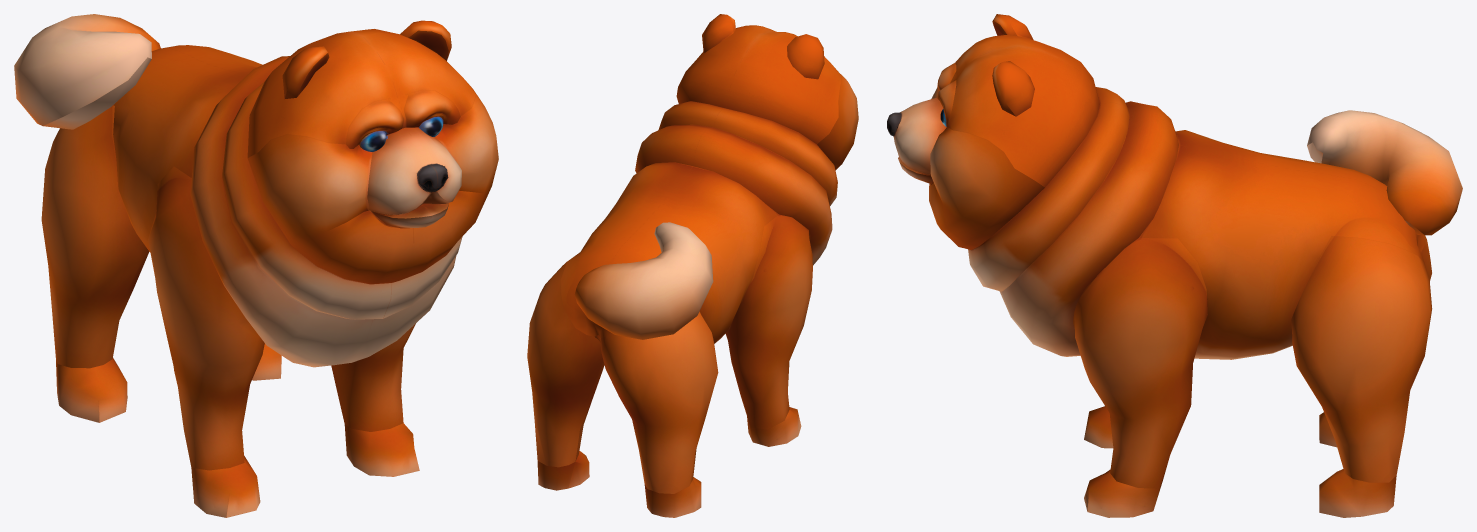
The model's file is RedDog.obj.
3 views of the same model, side by side, from view 1: azimuth 30°, elevation 25°; view 2: azimuth 150°, elevation 25°; view 3: azimuth 270°, elevation 25° (orthographic). The views are drawn at different scales.
Visible parts, largest first — view 1: Perrito_RedDog_Red_Dog_Default; view 2: Perrito_RedDog_Red_Dog_Default; view 3: Perrito_RedDog_Red_Dog_Default.
Boxes of the visible parts, bbox=[...] form: Perrito_RedDog_Red_Dog_Default: bbox=[14, 14, 498, 517]; Perrito_RedDog_Red_Dog_Default: bbox=[527, 14, 858, 517]; Perrito_RedDog_Red_Dog_Default: bbox=[887, 14, 1462, 517].
Bounding box in the file's own units: 0.3586 × 0.6623 × 0.7945.
1 material, 1 textured.
